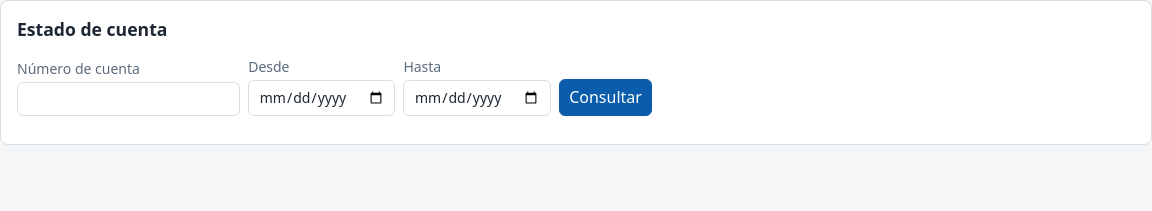
Test: PaginaEstadoDeCuenta › rechaza un rango de fechas invertido sin consultar
Type "5300000001" into the field labelled "Número de cuenta".
click(129, 99); type("5300000001")  # box [17,82,240,116]
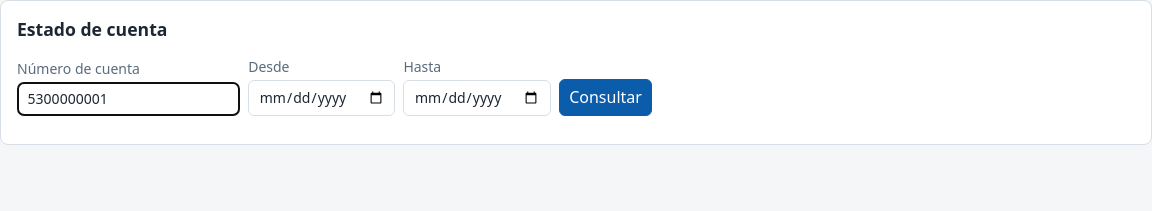
Type "2026-11-30" into the date field labelled "Desde".
click(322, 98); type("2026-11-30")  # box [248,80,395,116]
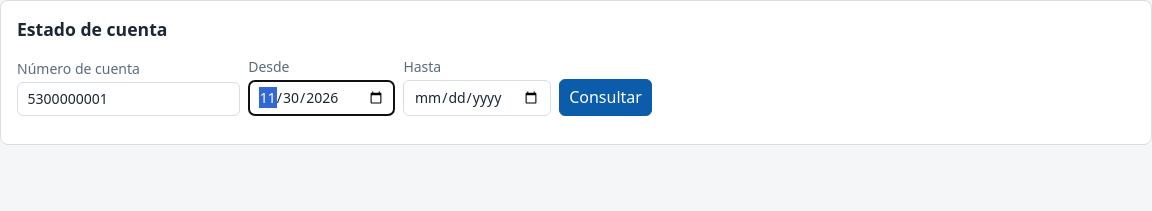
Type "2026-11-01" into the date field labelled "Hasta".
click(477, 98); type("2026-11-01")  # box [403,80,551,116]
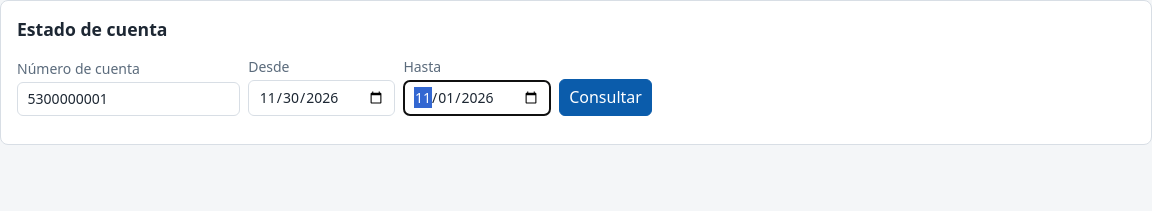
Click the button "Consultar".
click(606, 97)  # box [559,79,652,116]
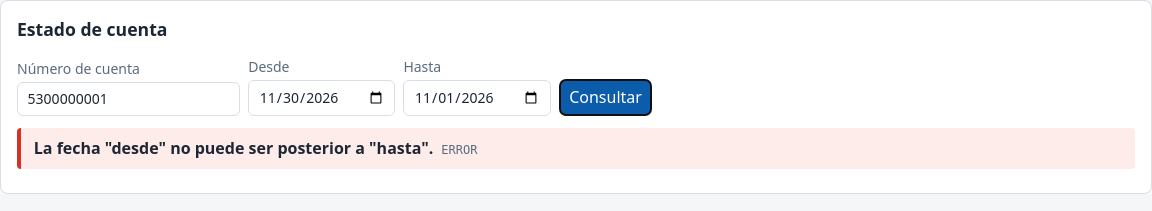
Expected: the message shows "no puede ser posterior", [34,137,433,159]
